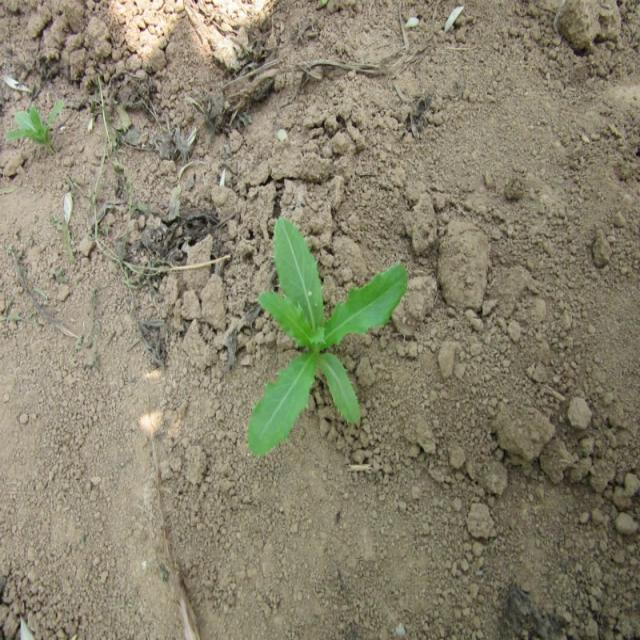cs: (245, 208, 410, 460)
